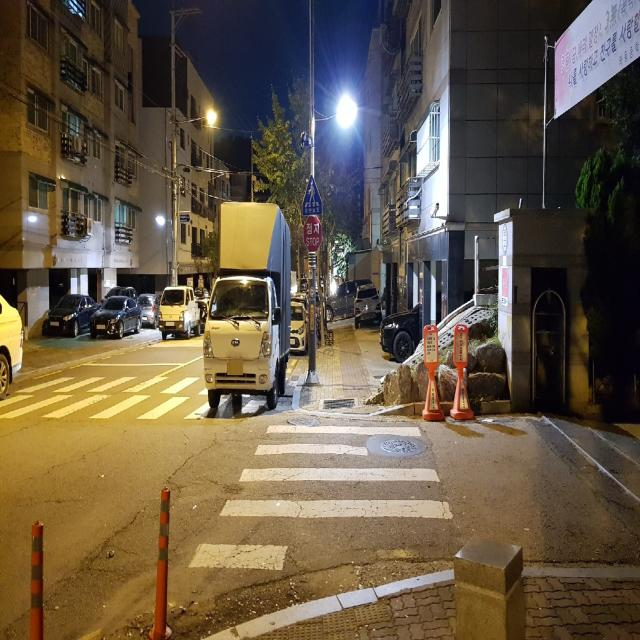횡단보도: (187, 422, 455, 575), (0, 352, 273, 418)
